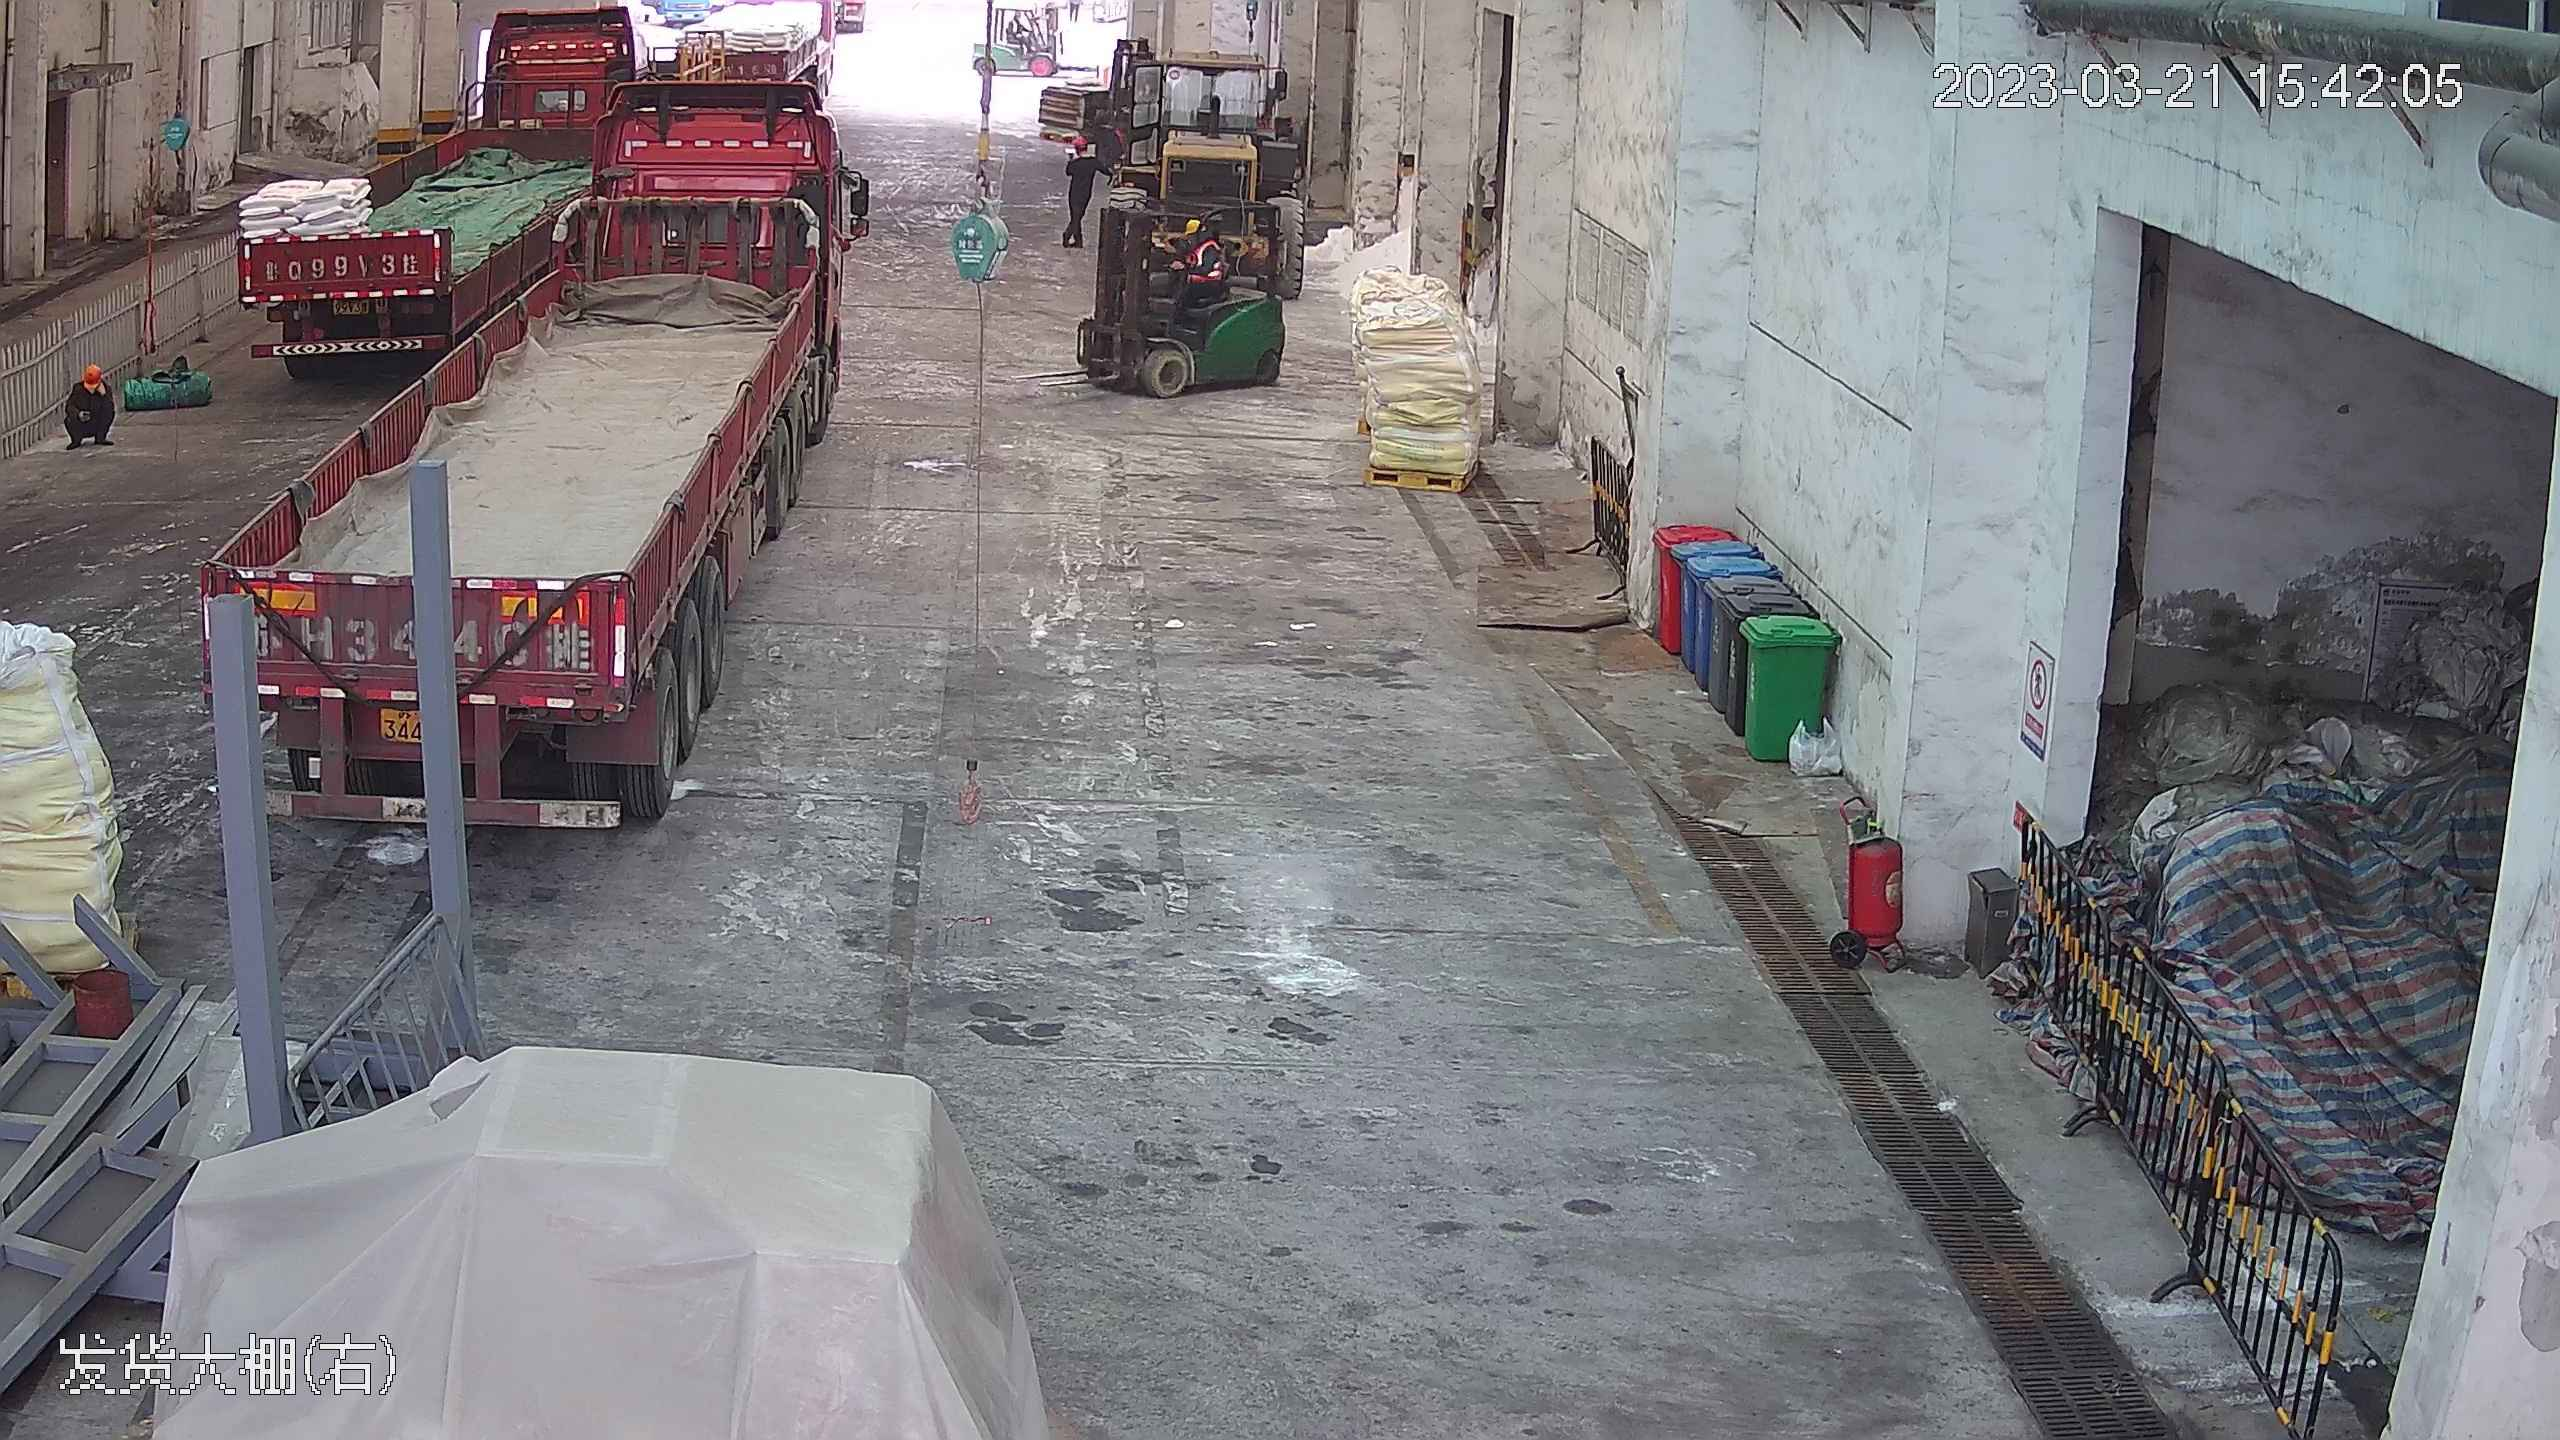head: (66, 361, 110, 419), (1176, 216, 1222, 263), (1061, 133, 1092, 172)
helmet: (1176, 214, 1210, 241), (75, 359, 106, 386), (1184, 218, 1205, 235), (1071, 134, 1088, 147)
people: (60, 360, 111, 448), (1058, 136, 1094, 241)
truck: (211, 15, 858, 845), (210, 6, 607, 383)
